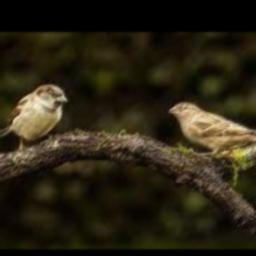Sparrow: (169, 100, 256, 154), (0, 84, 69, 152)
